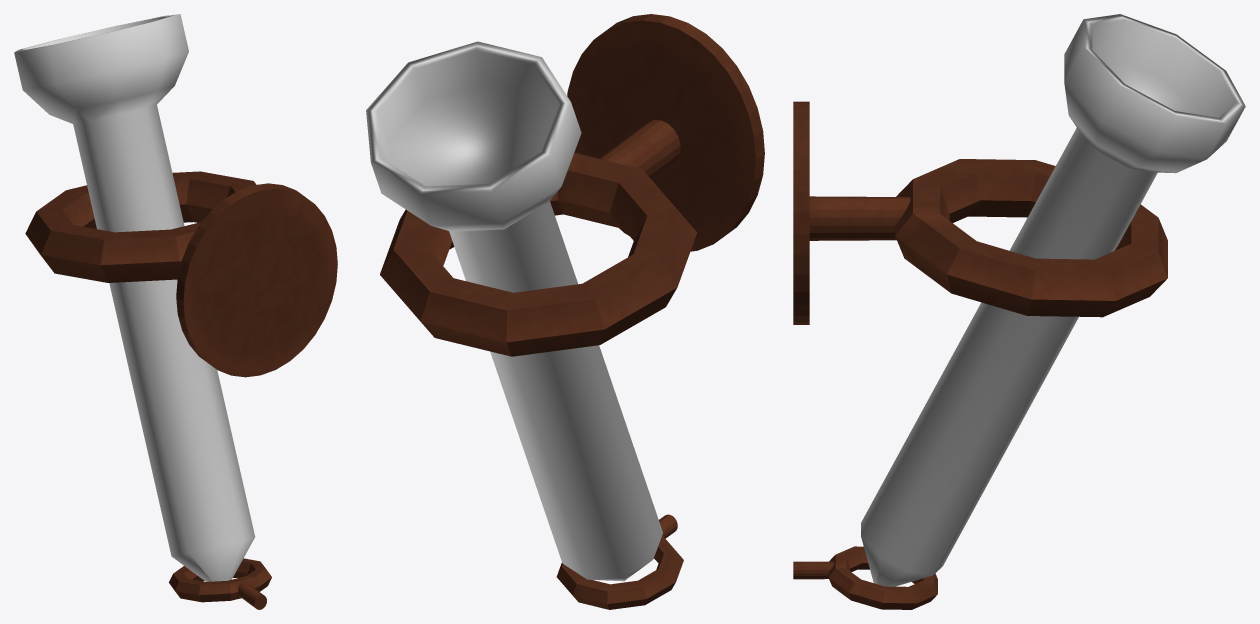
Rendered from walltorch.fbx.
3 renders of one model, left to right at view 1: azimuth 30°, elevation 25°; view 2: azimuth 150°, elevation 25°; view 3: azimuth 270°, elevation 25°, orthographic. The views are drawn at different scales.
Parts seen in each view (by area): view 1: Cylinder, Circle.001; view 2: Circle.001, Cylinder; view 3: Cylinder, Circle.001.
Part boxes in pixels (<box>): Cylinder: <box>14,14,255,581</box>; Circle.001: <box>25,171,337,609</box>; Circle.001: <box>380,14,764,609</box>; Cylinder: <box>366,41,662,581</box>; Cylinder: <box>861,14,1245,586</box>; Circle.001: <box>793,101,1167,609</box>.
Size of the model in its own units: 62.95 by 134 by 97.86.
